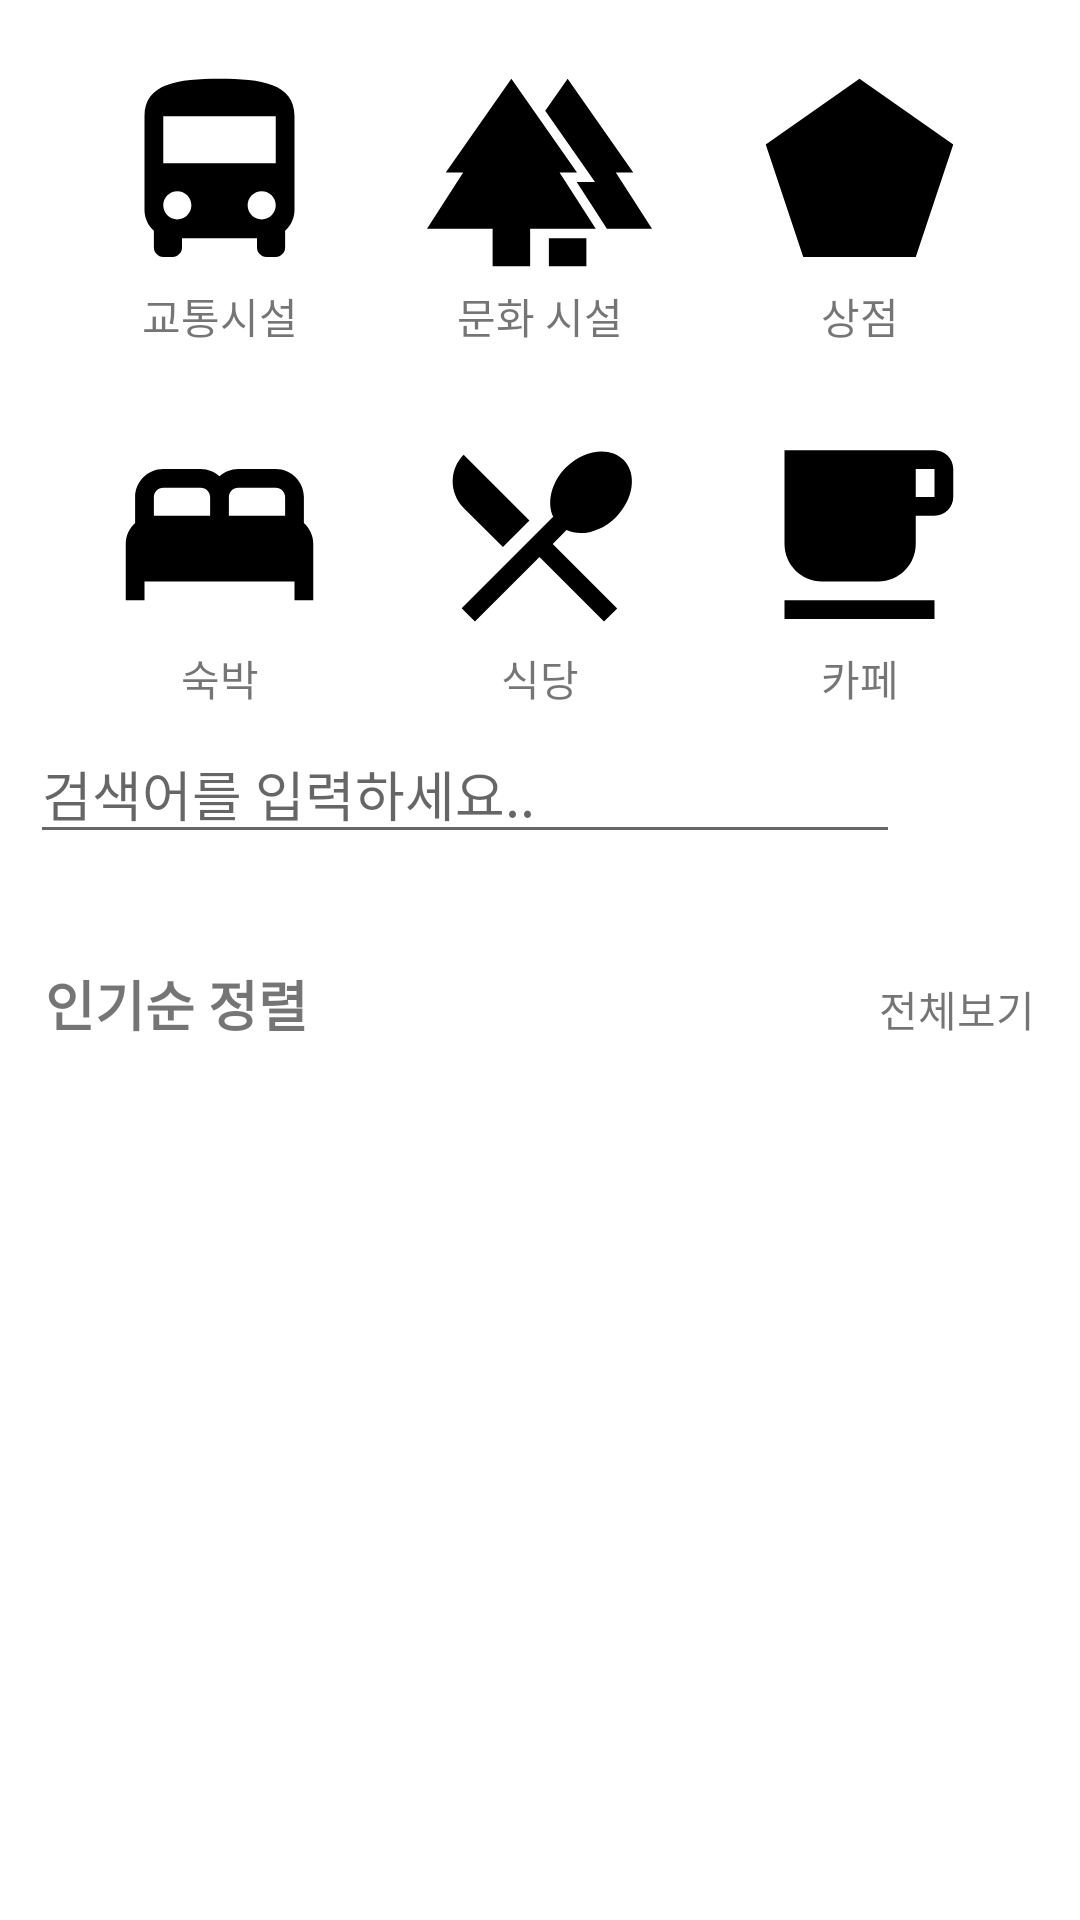

Point at icon controls on the screen. Image size 1080x1920, points as [x,y].
bed: [219,535]
directions bus: [219,167]
forest: [539,173]
